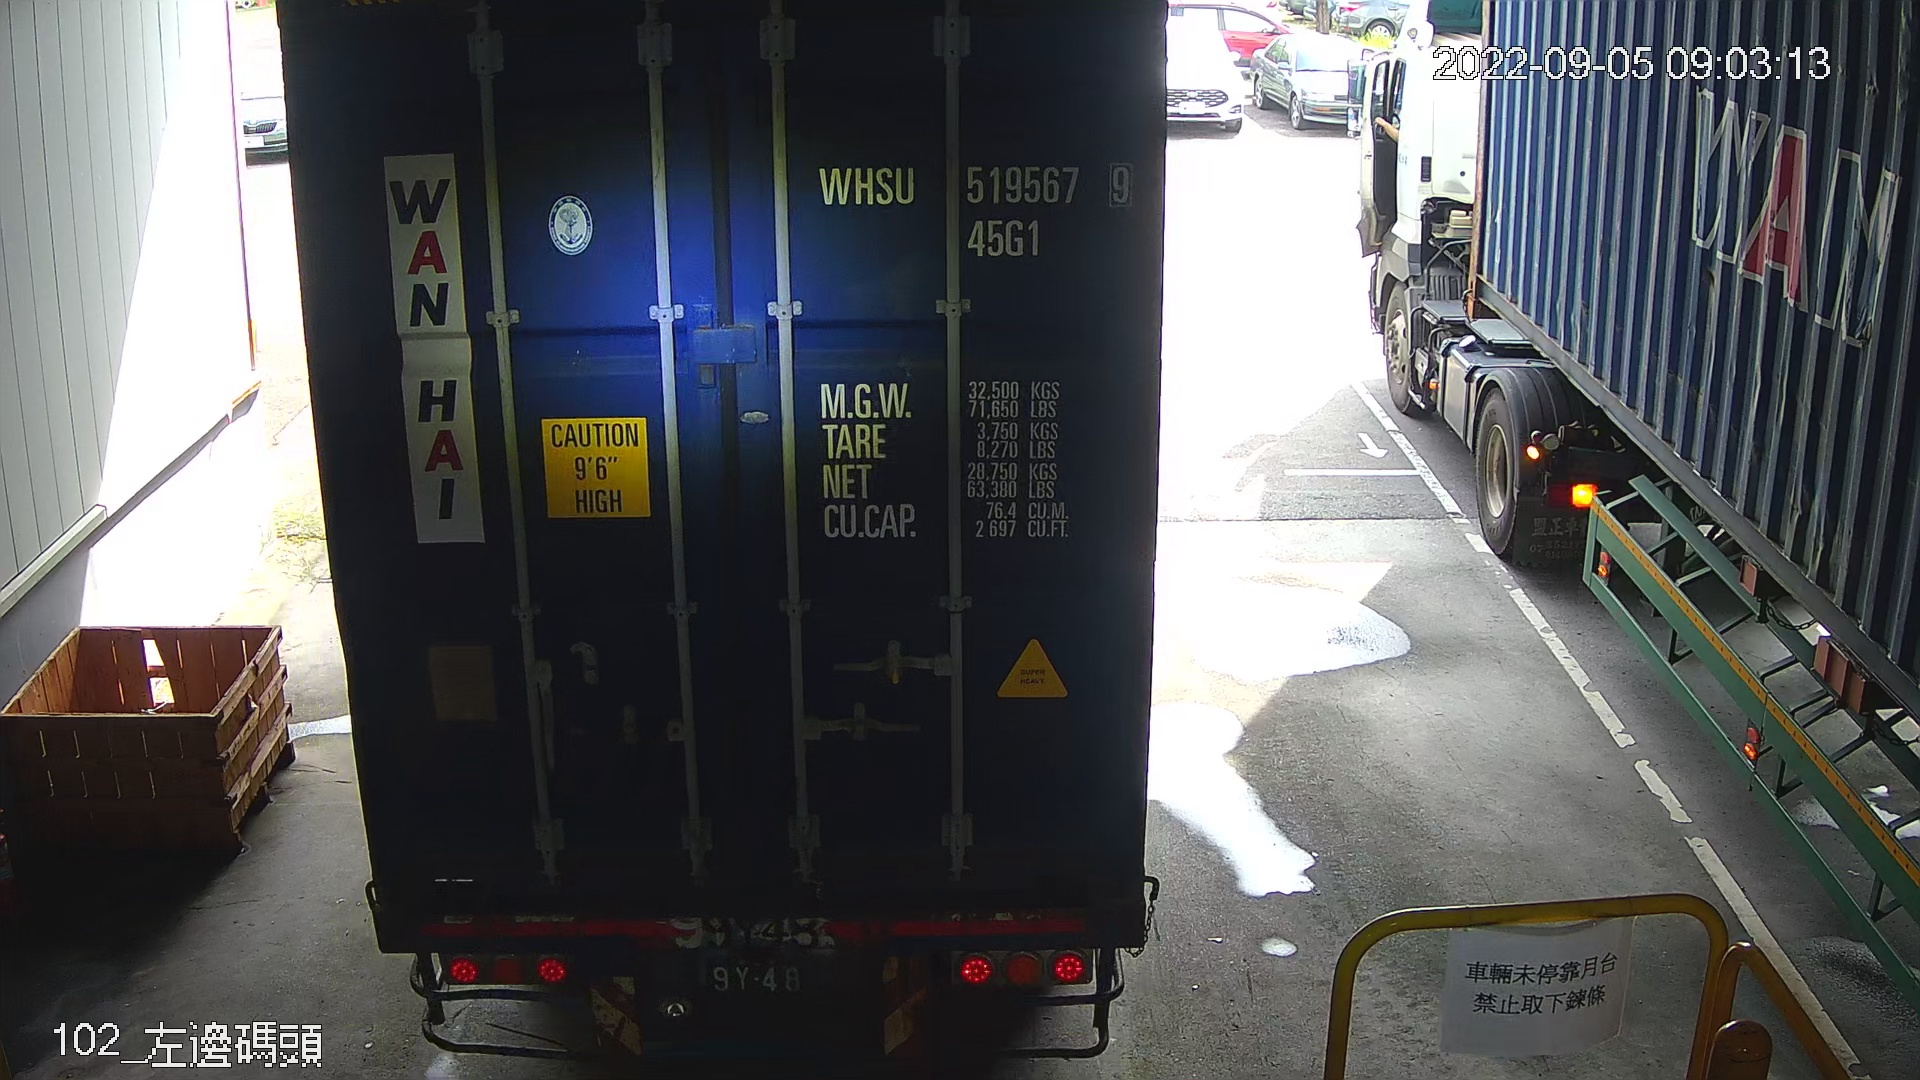container: (808, 152, 1145, 272)
